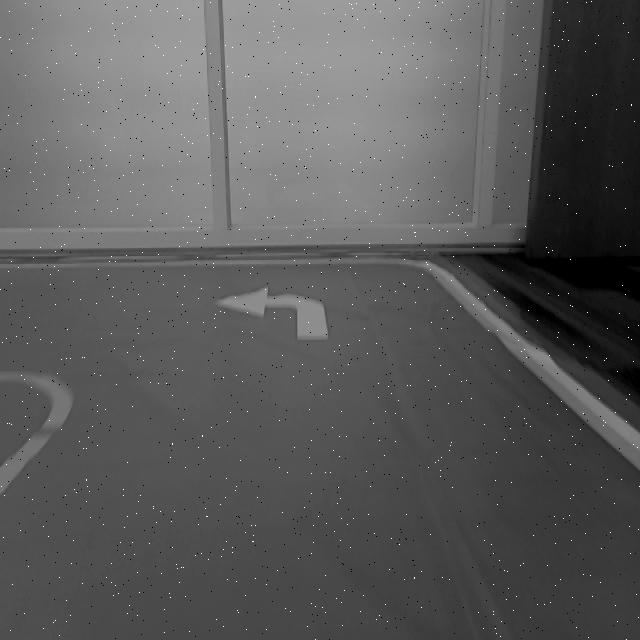left_lane: (0, 404, 73, 491)
right_lane: (429, 269, 640, 473)
